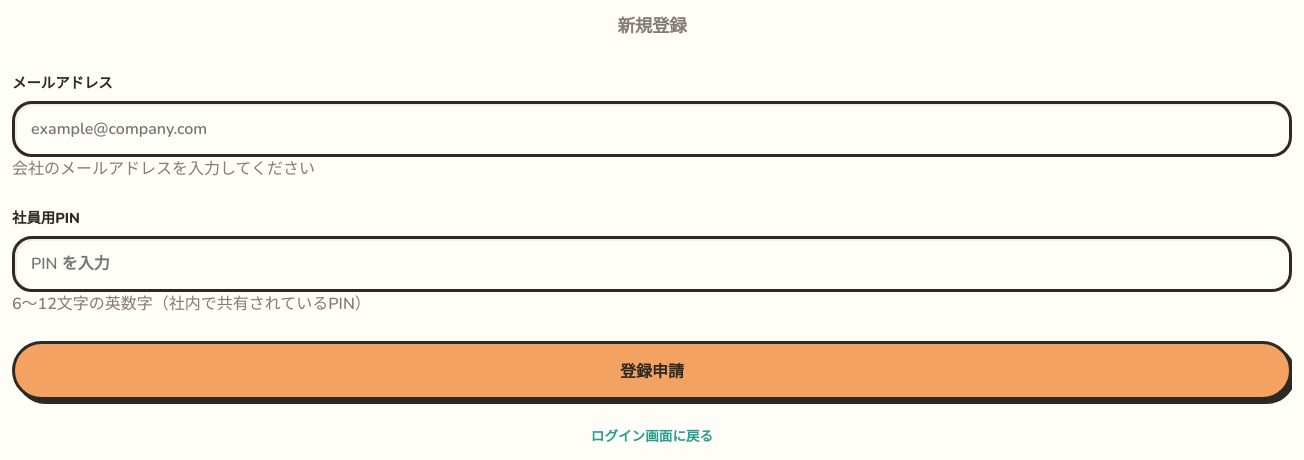
it: SignupPage › バリデーション › PINが6文字未満でsubmitするとバリデーションエラーが表示される
The width and height of the screenshot is (1304, 460).
Type "test@example.com" into the field labelled "メールアドレス" at coordinates (652, 129), box [12,101,1292,157]
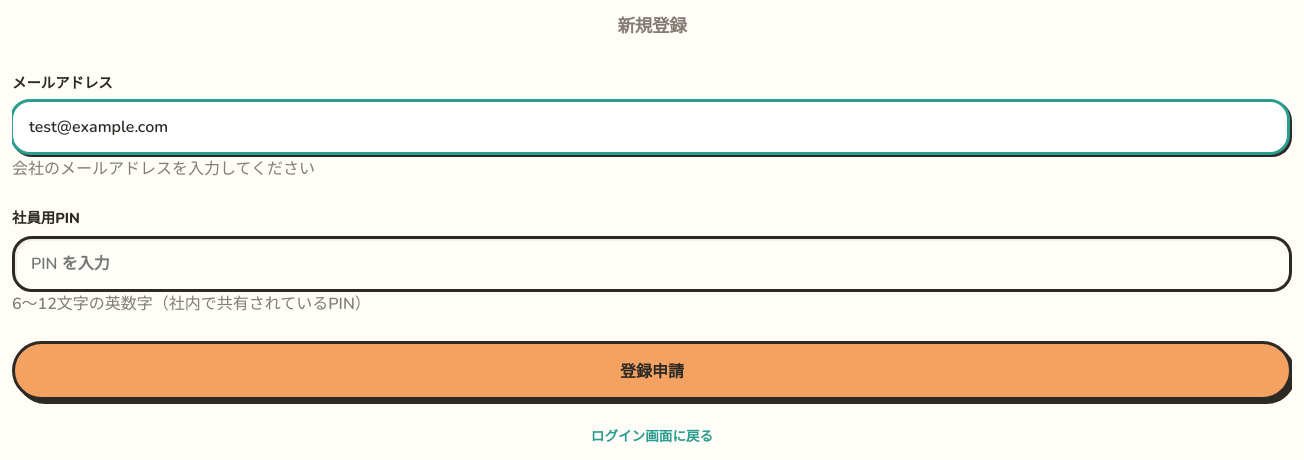
Type "abc" into the field labelled "社員用PIN" at coordinates (652, 264), box [12,236,1292,292]
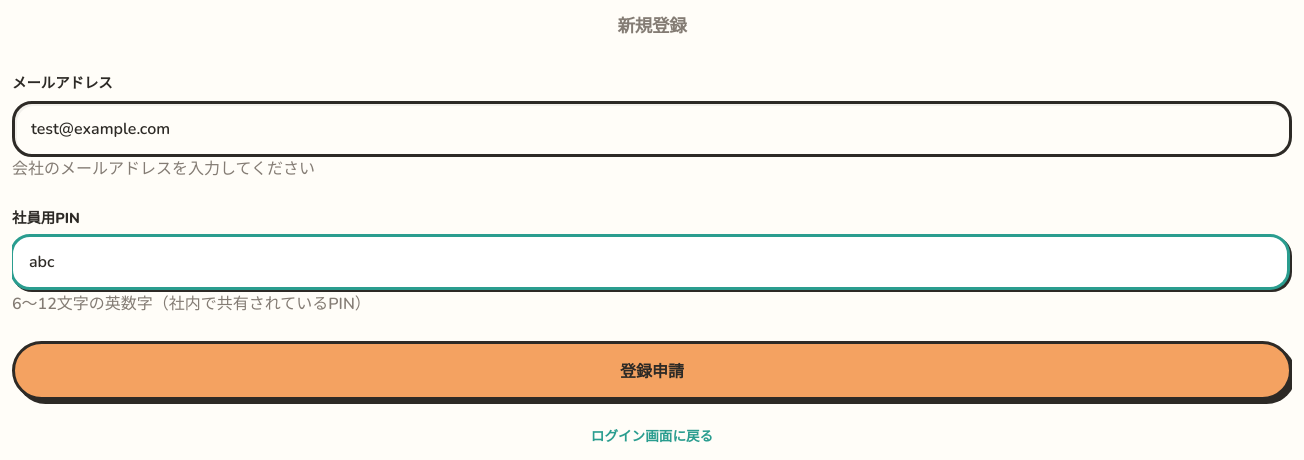
Click the button "登録申請" at coordinates (652, 371), box [12,341,1292,400]
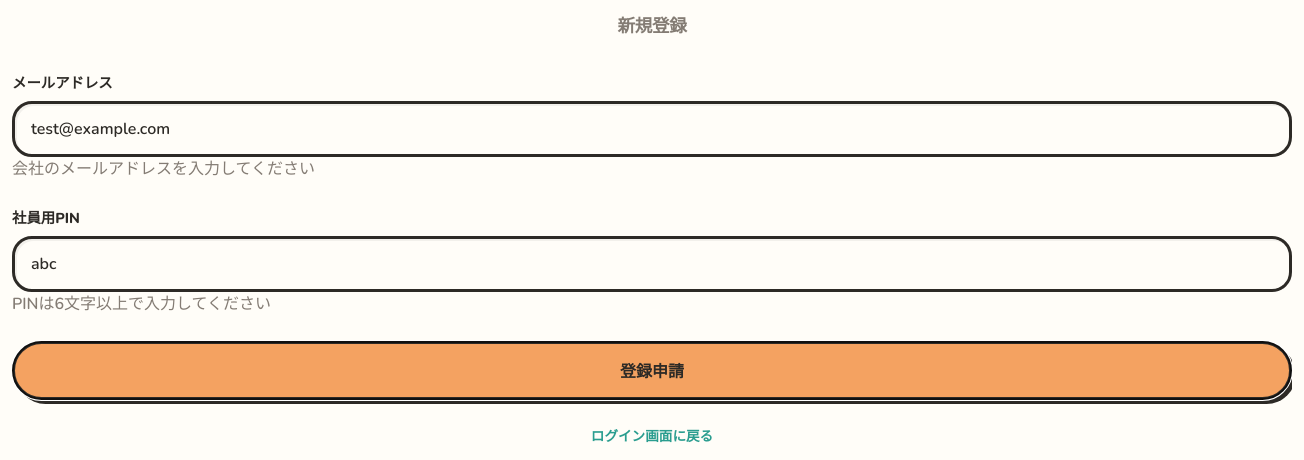
Check: the text "PINは6文字以上で入力してください" is shown, box [12,293,271,315]
